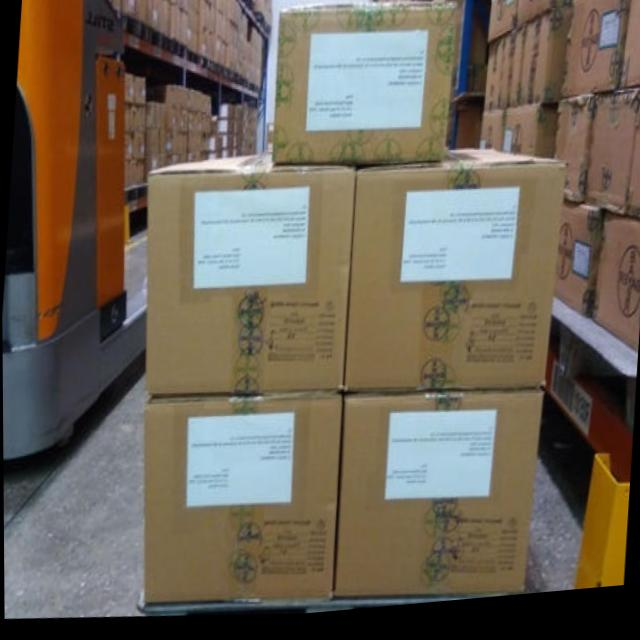box: (342, 156, 566, 399), (143, 158, 356, 399), (332, 399, 543, 605), (143, 399, 341, 605), (270, 8, 457, 168), (560, 0, 631, 109), (584, 100, 640, 230), (591, 221, 640, 363), (554, 211, 603, 329), (519, 16, 571, 115), (554, 105, 593, 216), (501, 114, 557, 168), (498, 33, 525, 119), (516, 0, 584, 33), (483, 44, 503, 121), (487, 0, 518, 49), (479, 119, 504, 158)
